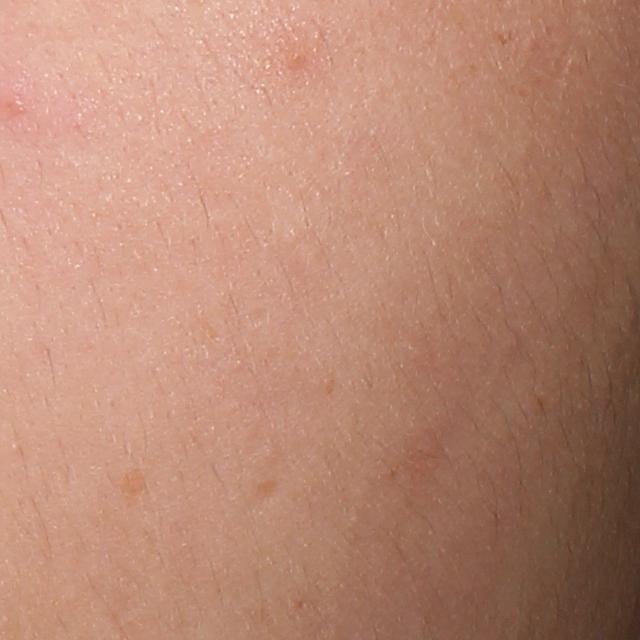atrophic_scar: (250, 477, 282, 506)
